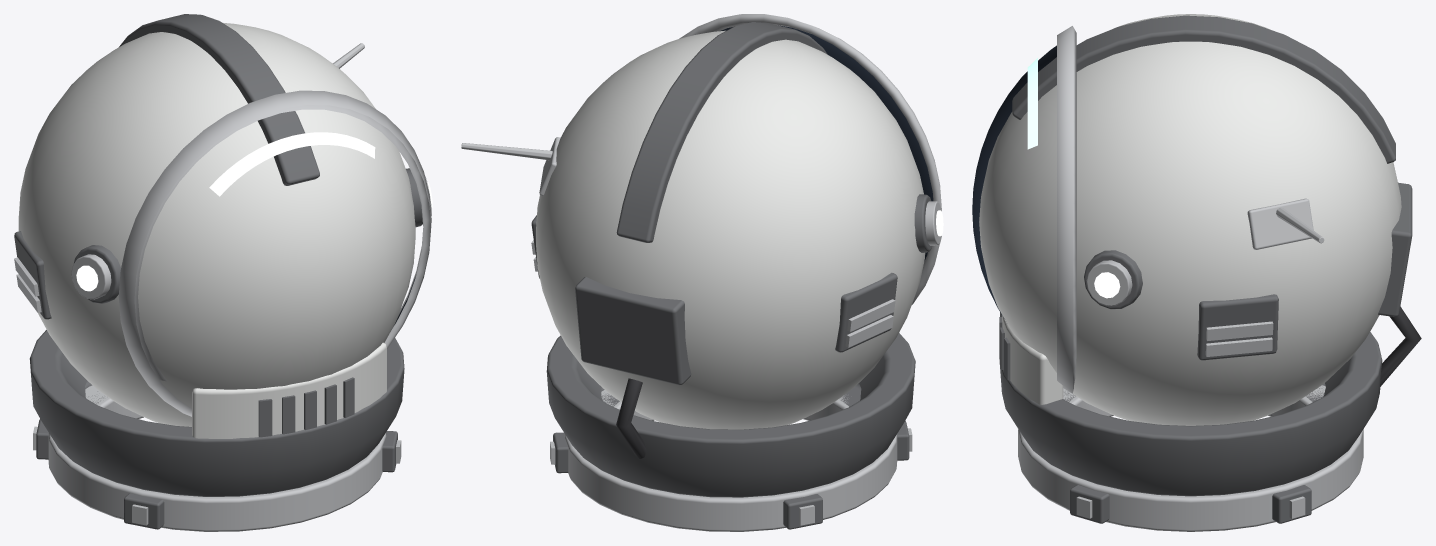
Rendered from helmet-standalone.glb.
3 renders of one model, left to right at view 1: azimuth 30°, elevation 25°; view 2: azimuth 150°, elevation 25°; view 3: azimuth 270°, elevation 25°, orthographic. The views are drawn at different scales.
Visible parts, largest first — view 1: helmet-standalone_White, helmet-standalone_Polymer, helmet-standalone_Metal, helmet-standalone_MintDim, helmet-standalone_Mint; view 2: helmet-standalone_White, helmet-standalone_Polymer, helmet-standalone_Metal, helmet-standalone_Glass, helmet-standalone_Rubber; view 3: helmet-standalone_White, helmet-standalone_Polymer, helmet-standalone_Metal, helmet-standalone_Glass, helmet-standalone_Rubber, helmet-standalone_MintDim, helmet-standalone_Mint.
Part boxes in pixels (x1,y1,x2,y2): helmet-standalone_White: (18, 22, 415, 438); helmet-standalone_Polymer: (14, 14, 422, 529); helmet-standalone_Metal: (14, 43, 431, 531); helmet-standalone_MintDim: (209, 132, 375, 196); helmet-standalone_Mint: (76, 182, 432, 291); helmet-standalone_White: (536, 30, 925, 429); helmet-standalone_Polymer: (531, 22, 932, 529); helmet-standalone_Metal: (461, 14, 941, 531); helmet-standalone_Glass: (720, 25, 933, 261); helmet-standalone_Rubber: (616, 378, 646, 458); helmet-standalone_White: (979, 14, 1401, 425); helmet-standalone_Polymer: (999, 15, 1412, 523); helmet-standalone_Metal: (1018, 26, 1363, 531); helmet-standalone_Glass: (972, 45, 1056, 318); helmet-standalone_Rubber: (1380, 306, 1421, 386); helmet-standalone_MintDim: (1027, 58, 1037, 149); helmet-standalone_Mint: (1094, 272, 1120, 298).
Bounding box in the file's own units: 0.3374 × 0.3579 × 0.333.
